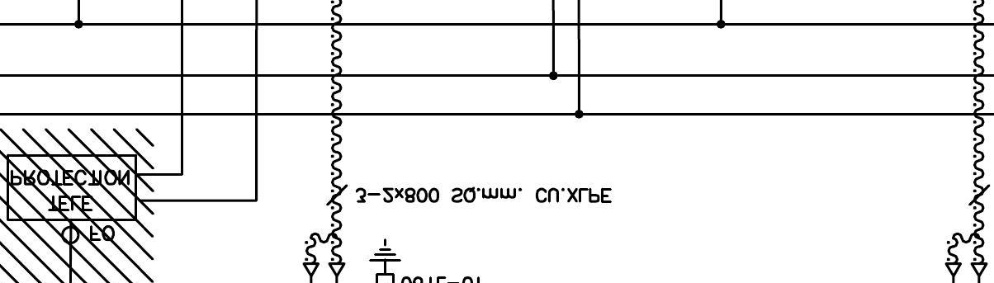tele_protection: (4, 152, 139, 223)
